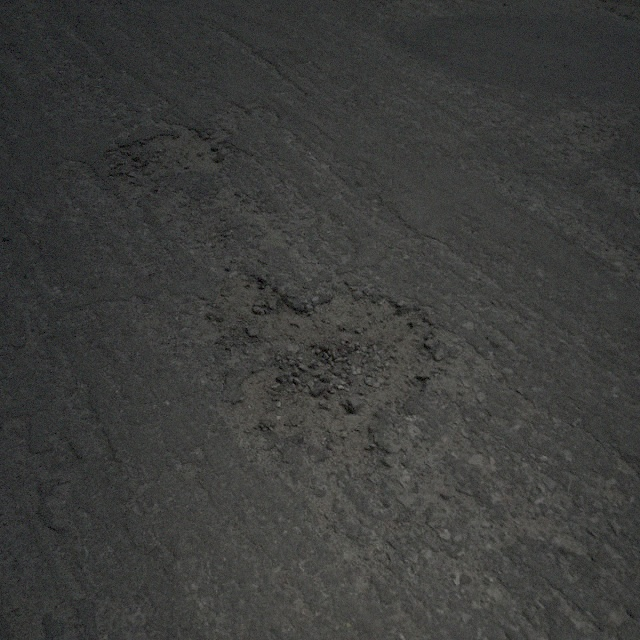pothole: (212, 267, 436, 465), (97, 119, 227, 184)
